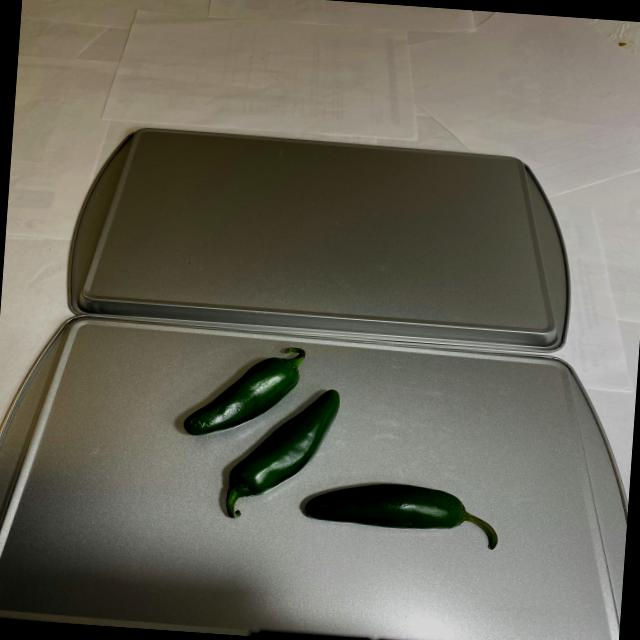chilli: (171, 334, 518, 562)
